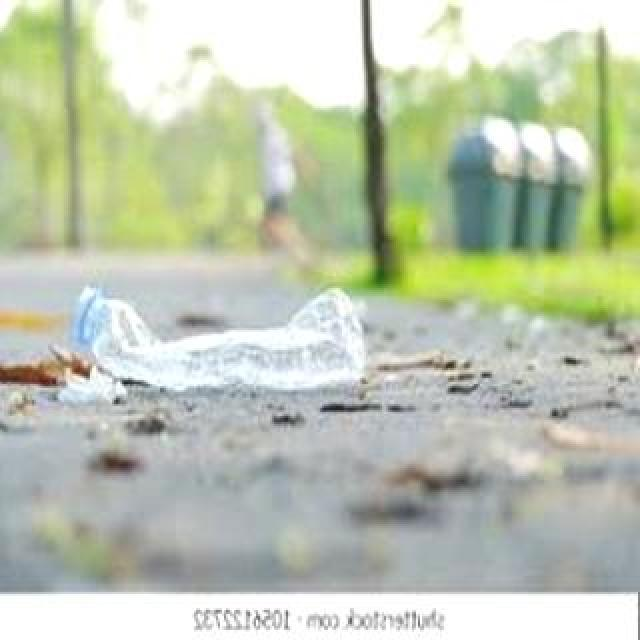Pet_Bottle: (68, 275, 370, 401)
